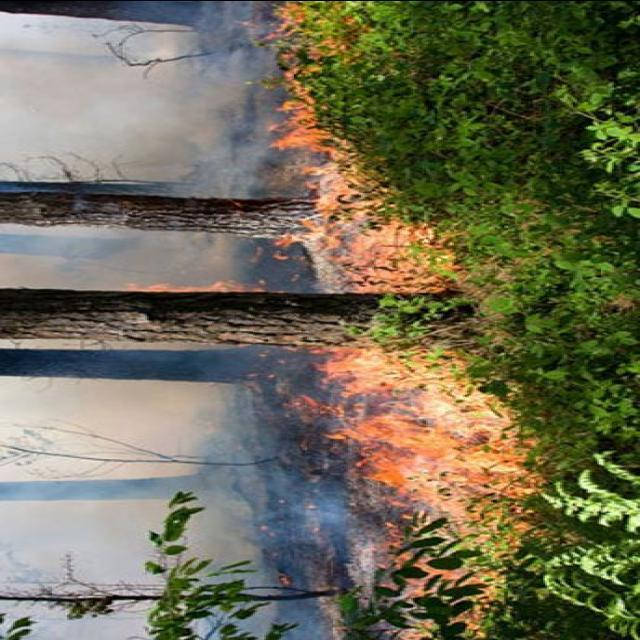Fire: (306, 43, 528, 537)
